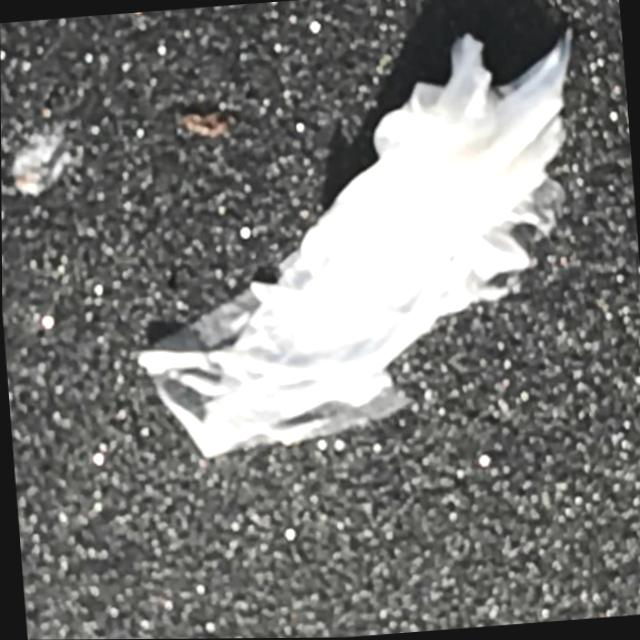Paper: (112, 23, 602, 466)
